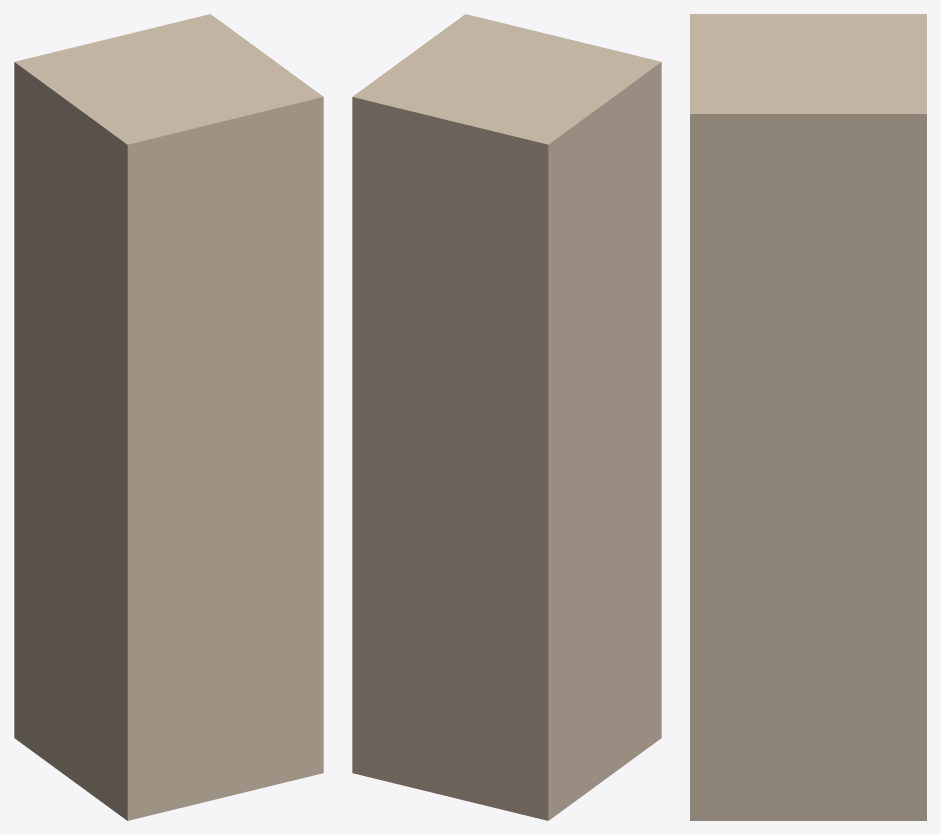
File: vesper-floor-lamp.glb
The picture shows the model from 3 angles, left to right: view 1: azimuth 30°, elevation 25°; view 2: azimuth 150°, elevation 25°; view 3: azimuth 270°, elevation 25°; orthographic projection. The views are drawn at different scales.
Visible parts, largest first — view 1: vesper-floor-lamp-placeholder; view 2: vesper-floor-lamp-placeholder; view 3: vesper-floor-lamp-placeholder.
Boxes of the visible parts, x1,y1,x2,y2 form: vesper-floor-lamp-placeholder: [14, 14, 323, 820]; vesper-floor-lamp-placeholder: [352, 14, 661, 820]; vesper-floor-lamp-placeholder: [690, 14, 926, 820].
Size of the model in its own units: 0.51 by 1.68 by 0.51.
